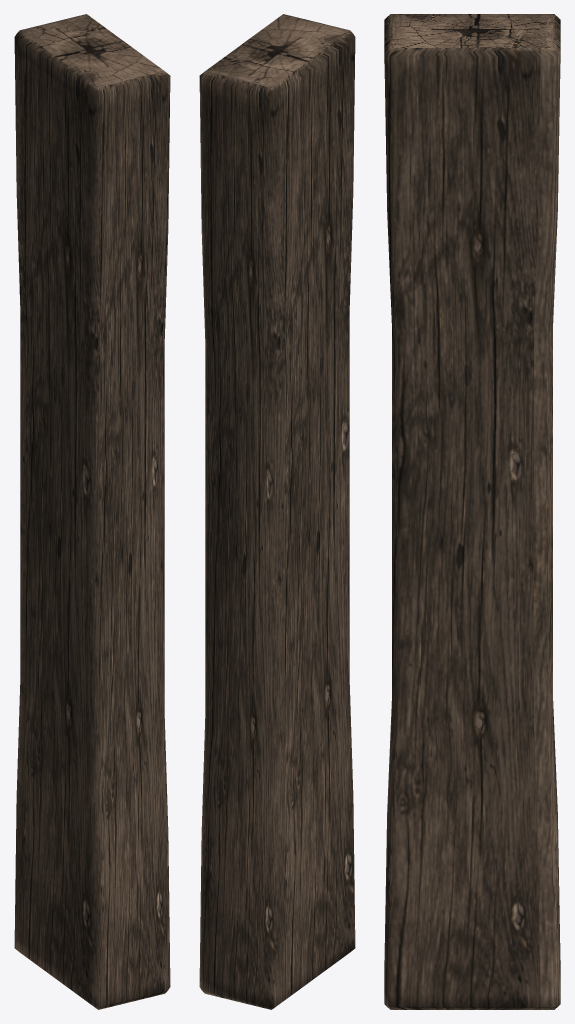
The model's file is lenta.FBX.
3 views of the same model, side by side, from view 1: azimuth 30°, elevation 25°; view 2: azimuth 150°, elevation 25°; view 3: azimuth 270°, elevation 25° (orthographic). The views are drawn at different scales.
Parts seen in each view (by area): view 1: Box001; view 2: Box001; view 3: Box001.
Boxes of the visible parts, x1,y1,x2,y2 form: Box001: [14, 14, 170, 1009]; Box001: [199, 14, 355, 1009]; Box001: [384, 14, 560, 1009].
Bounding box in the file's own units: 14.55 × 165 × 27.5.
